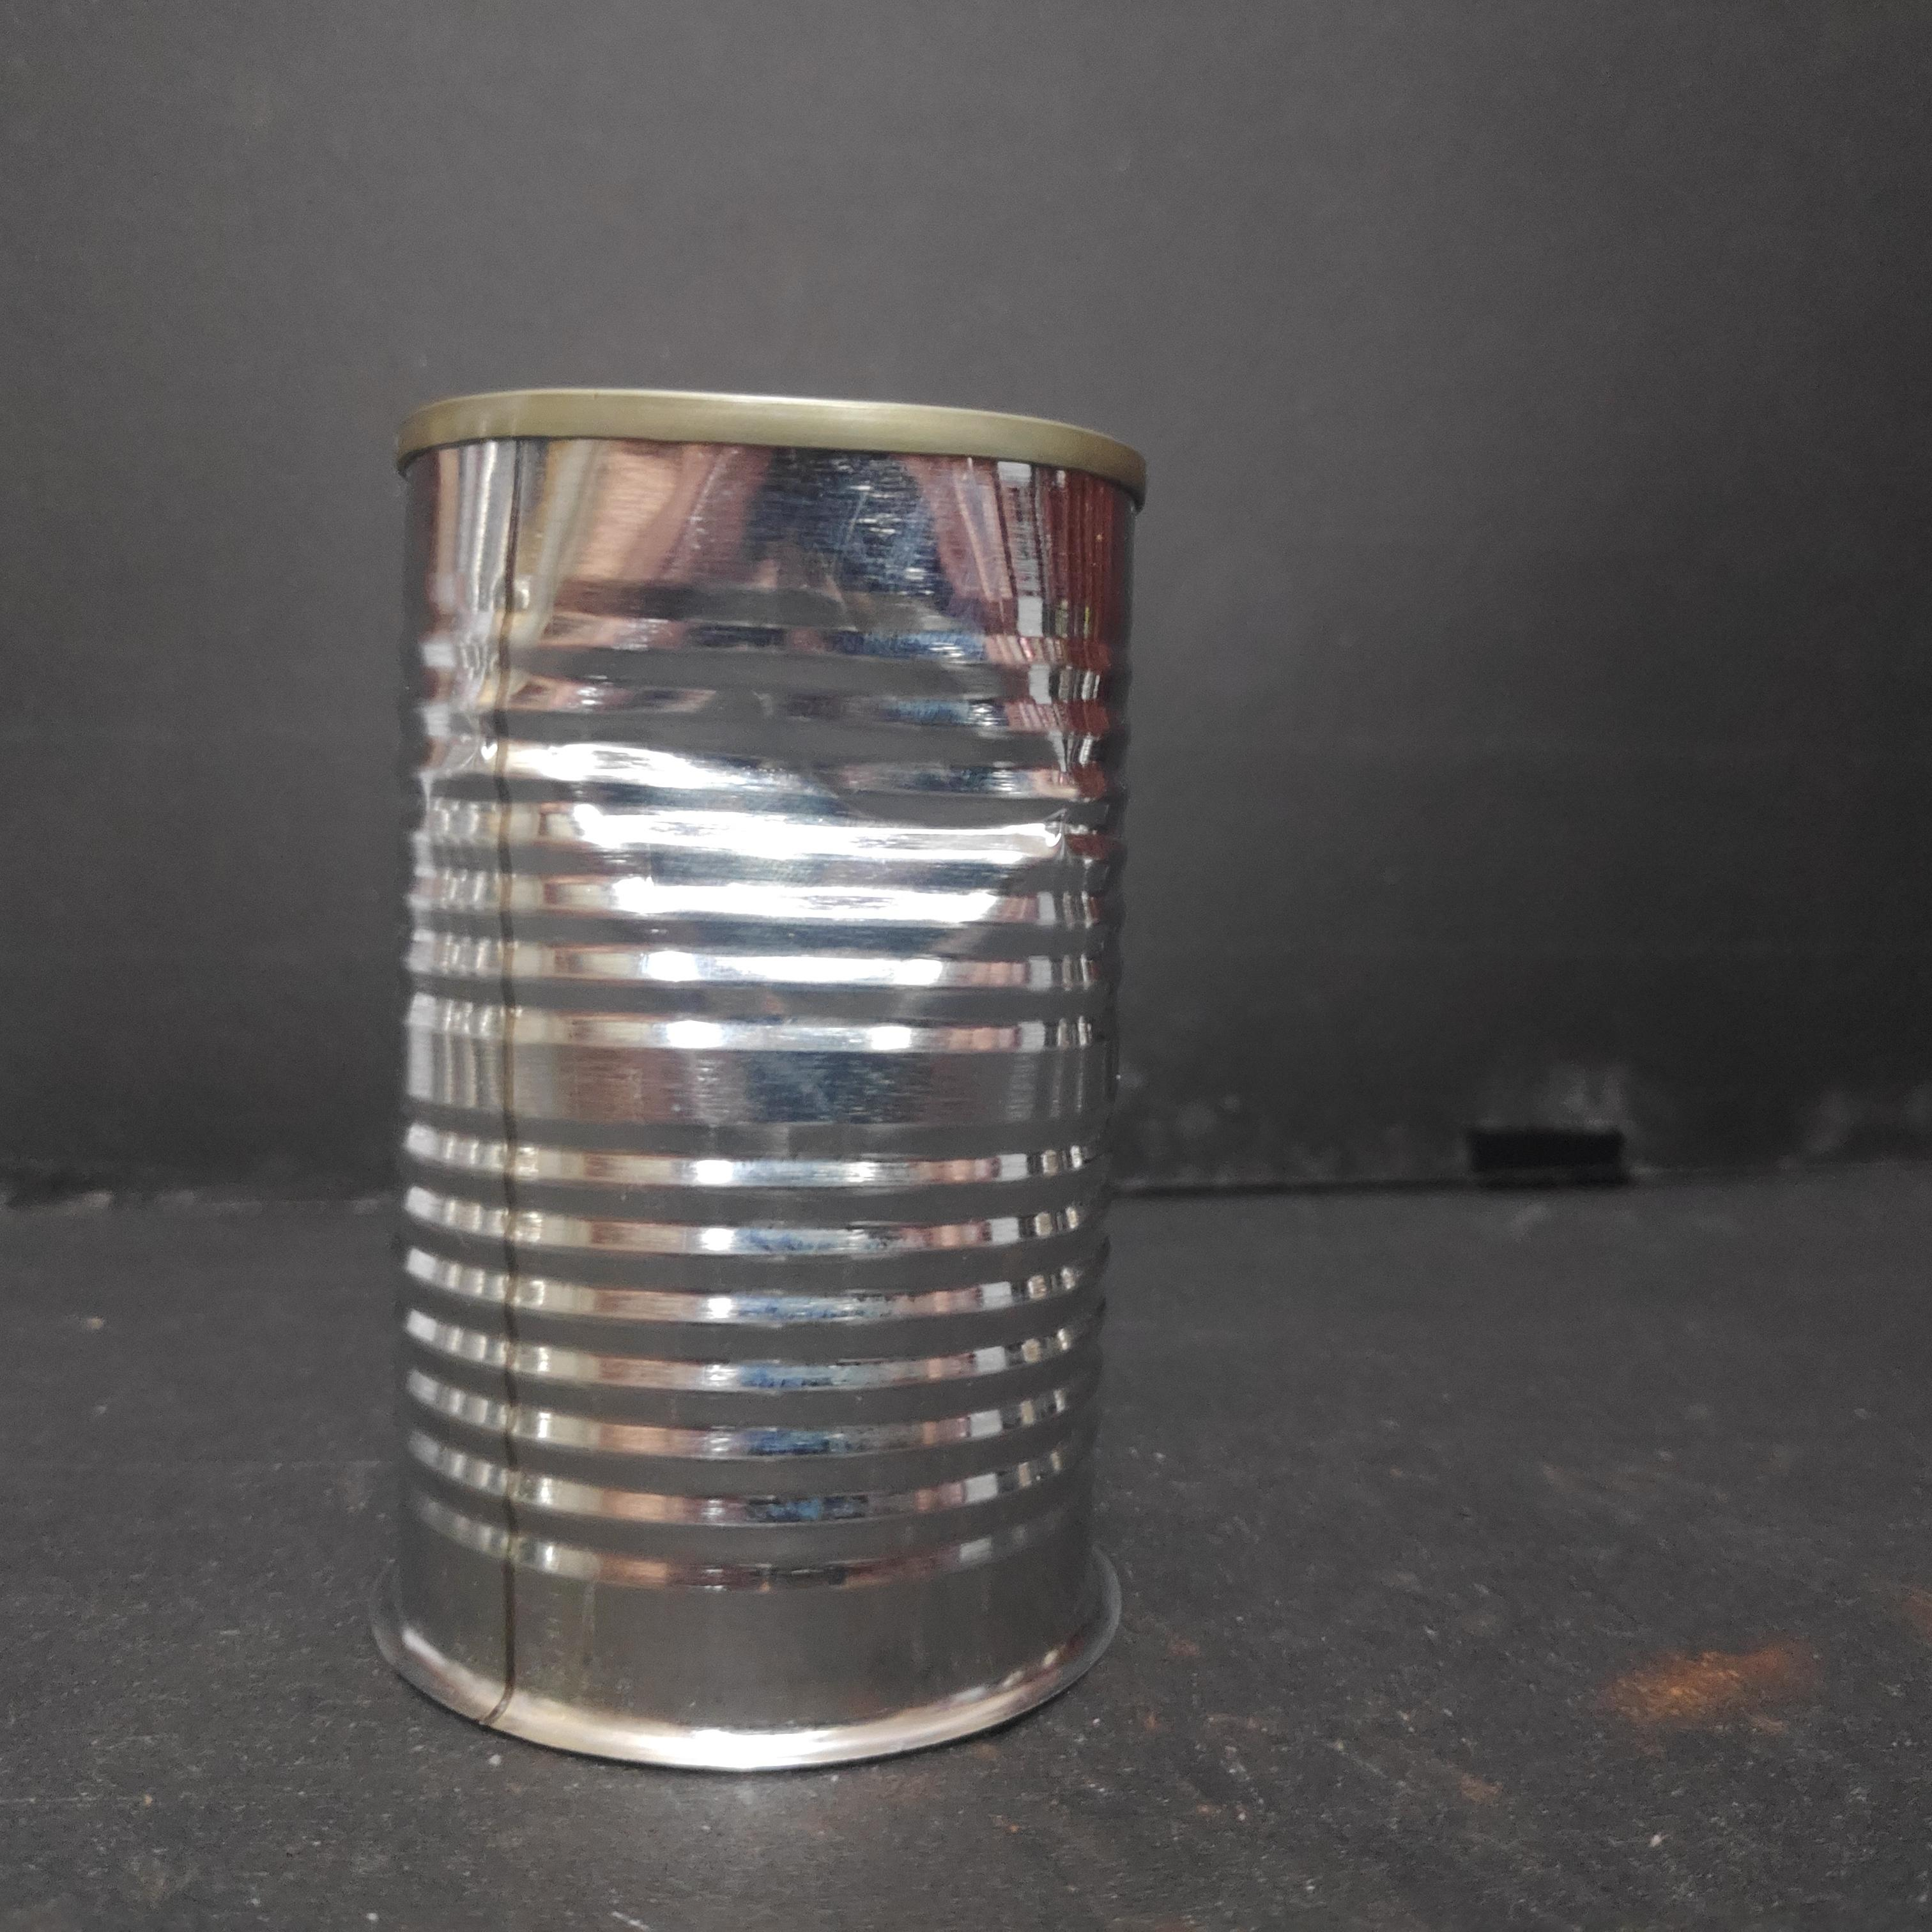Minor Defect: (359, 368, 1162, 1777)
